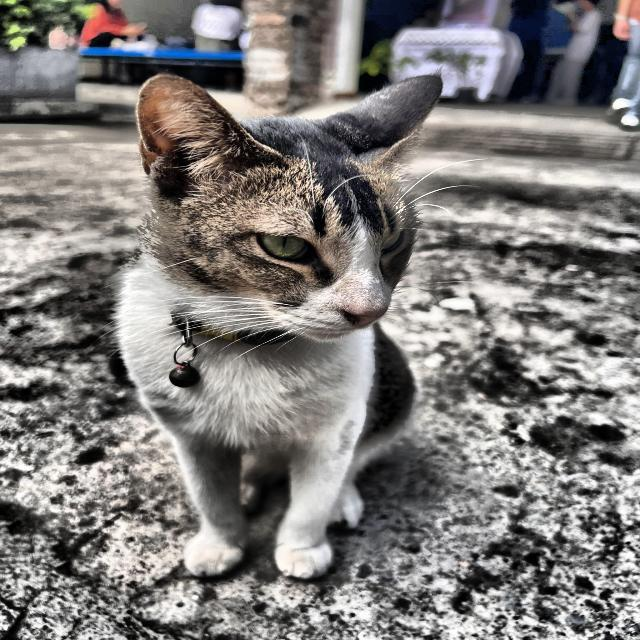Healthy skin: (143, 77, 440, 229), (302, 370, 398, 474)
